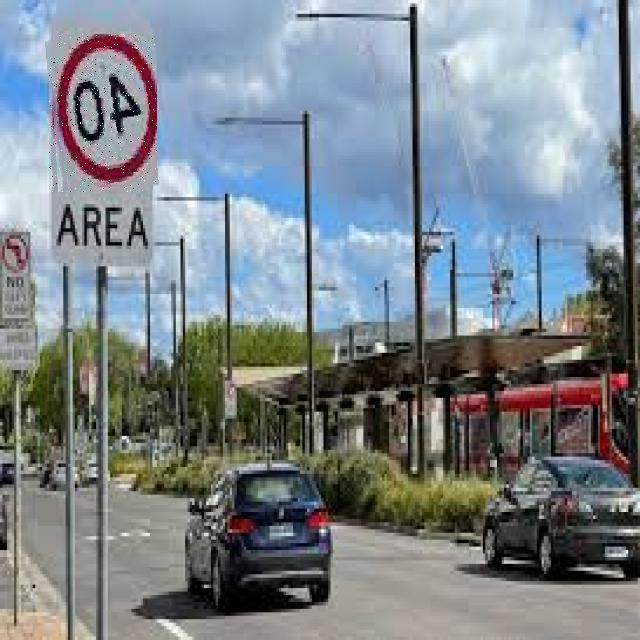speed limit 40: (48, 34, 157, 192)
